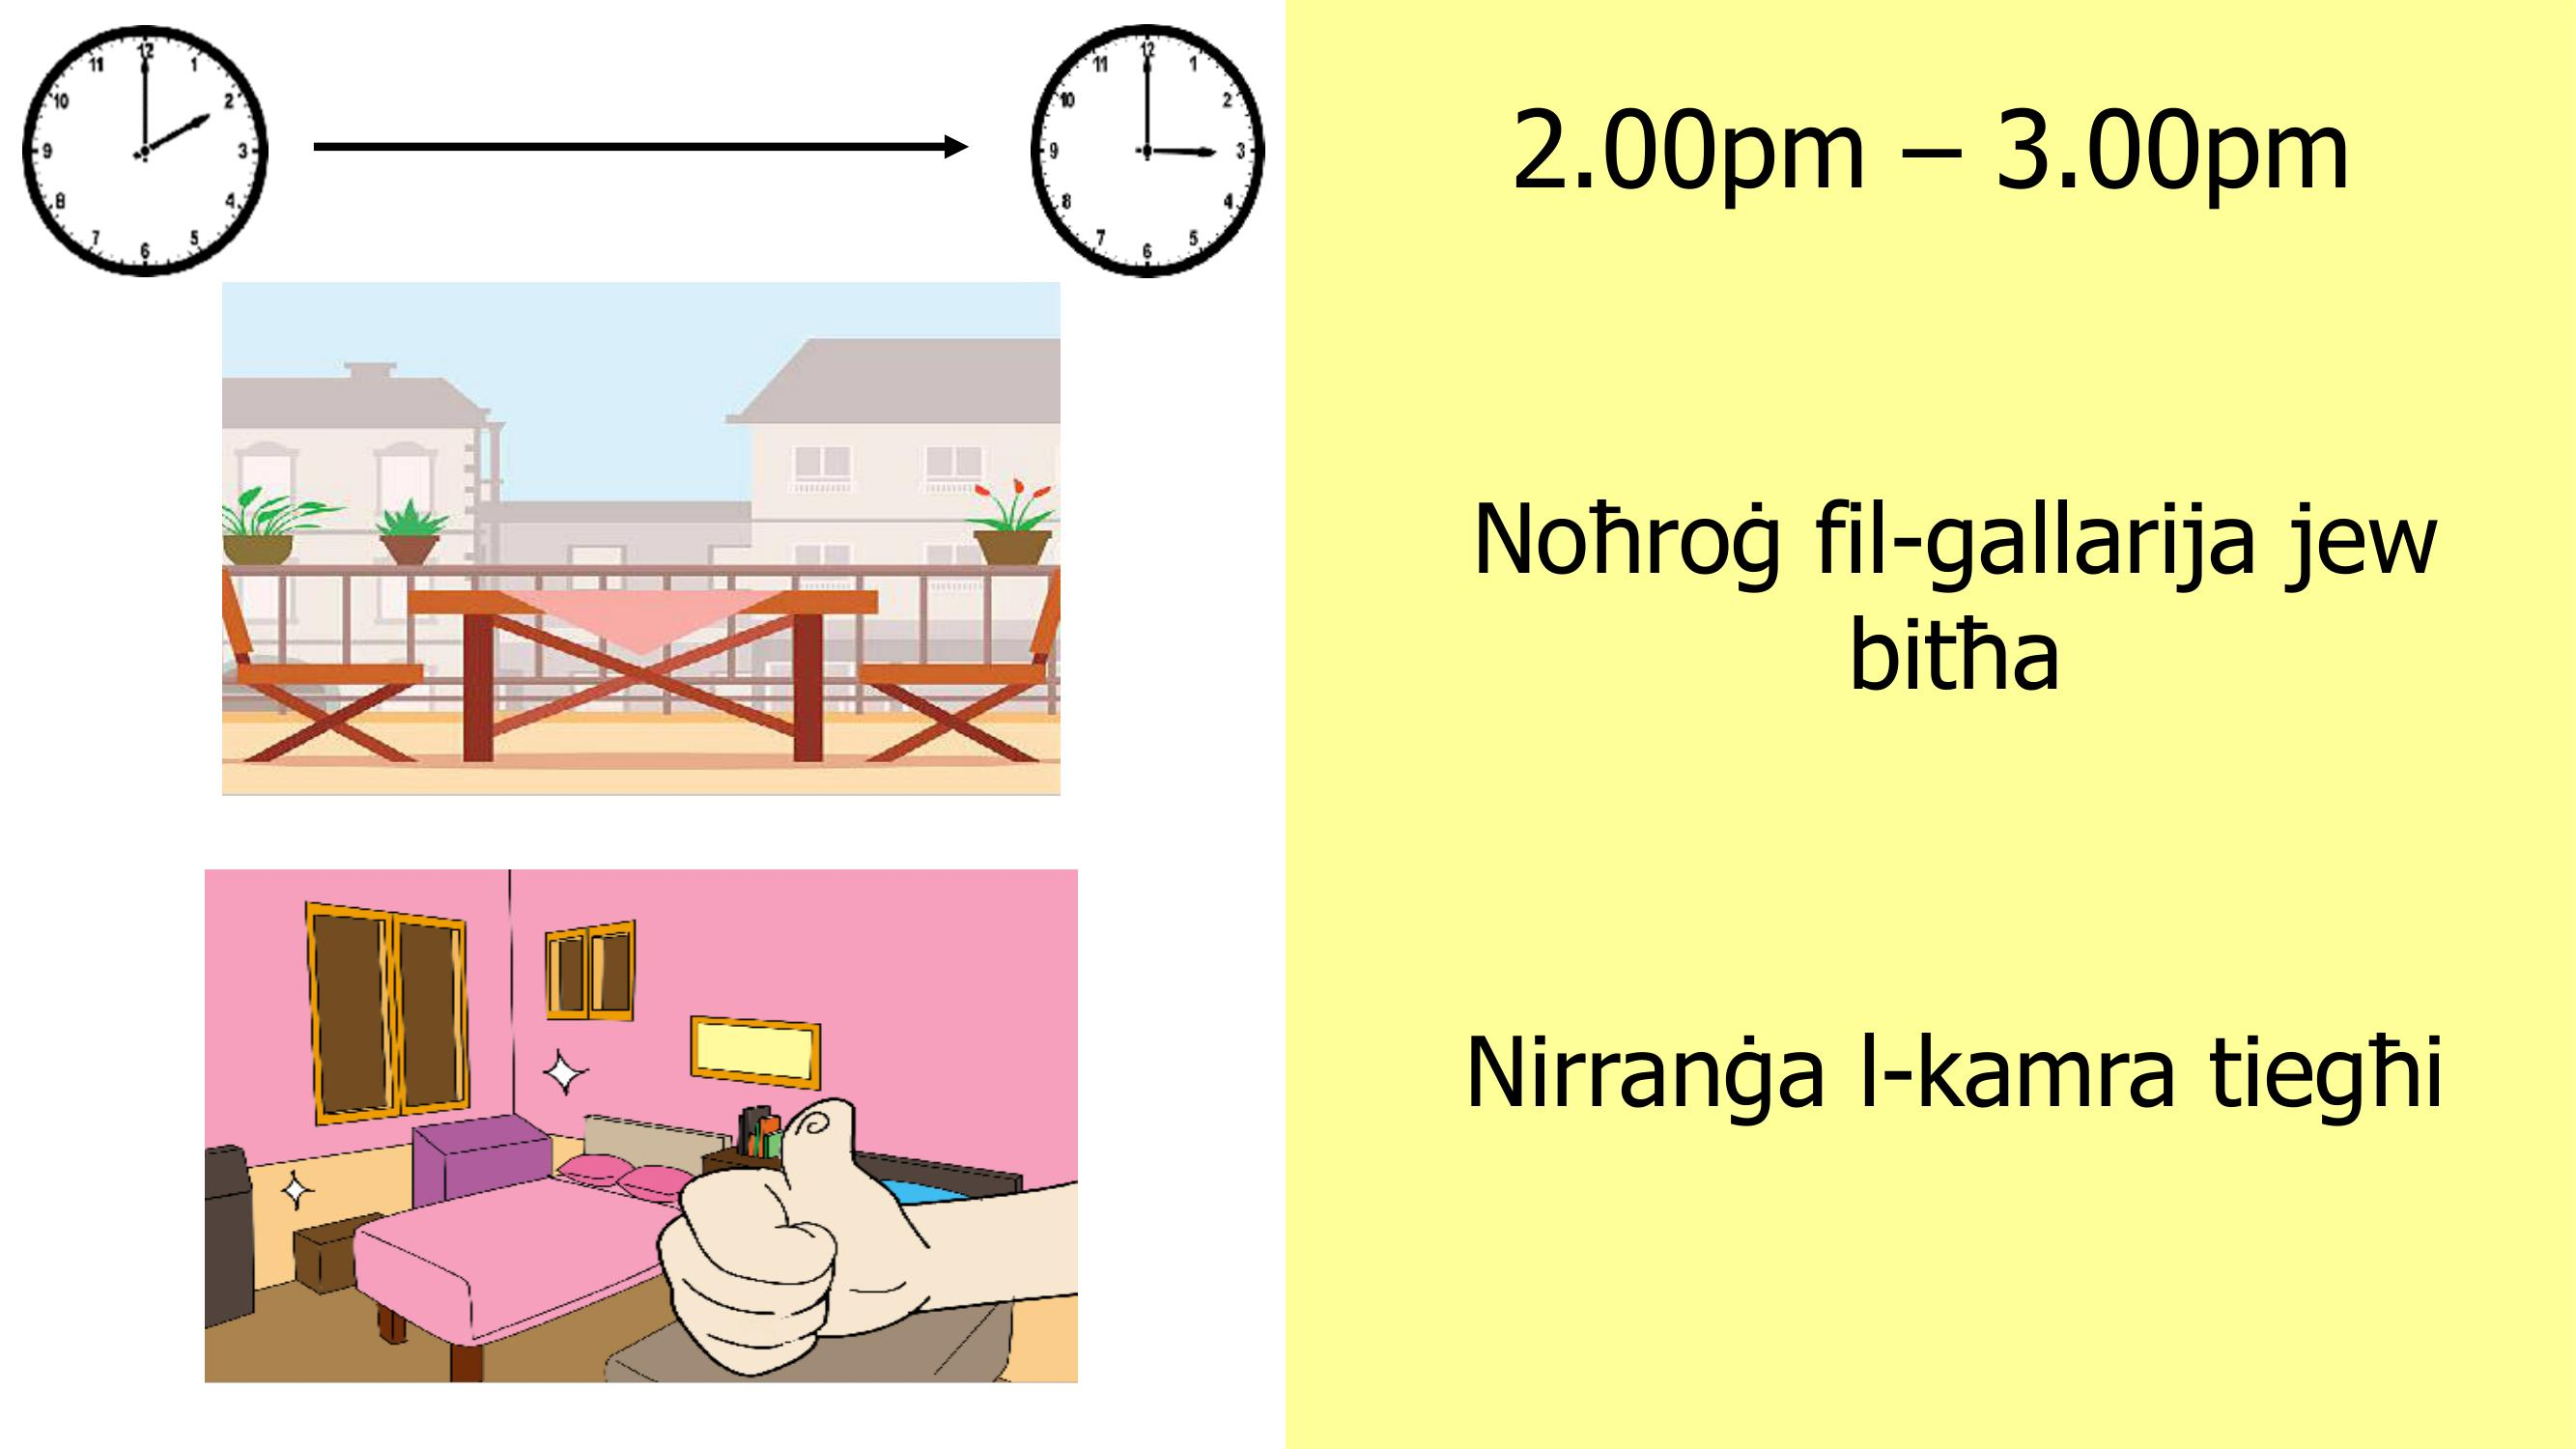text: (1414, 464, 2477, 1168)
